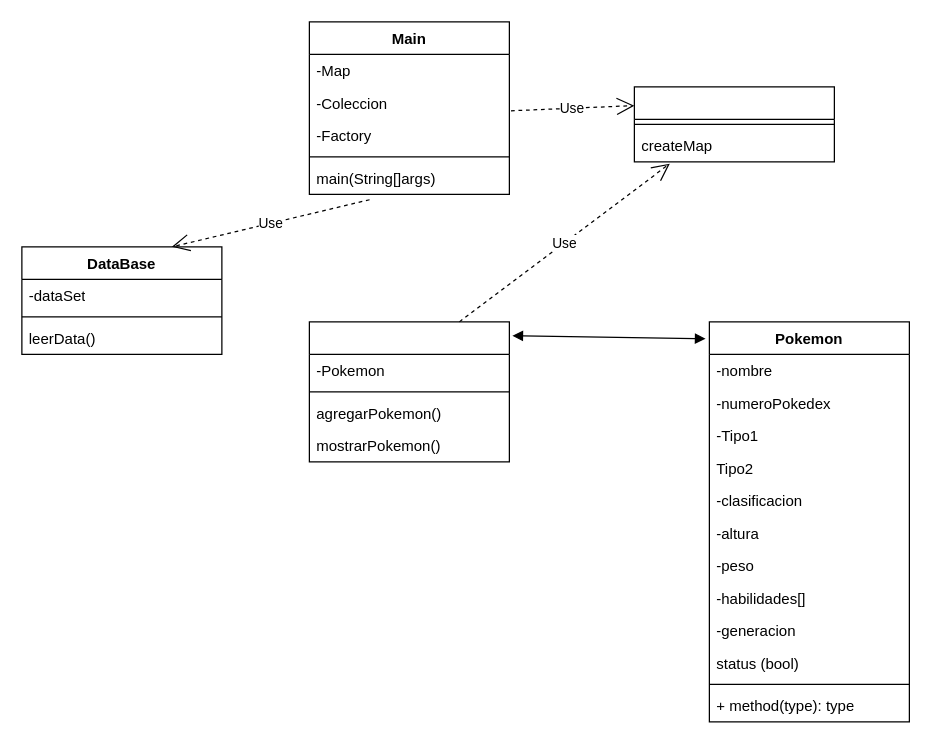
Image size: 931x748. Some labels were removed from this diagram. Each missing label, with the box of its shape:
Coleccion: (308, 321, 509, 462)
Factory: (633, 86, 834, 162)
